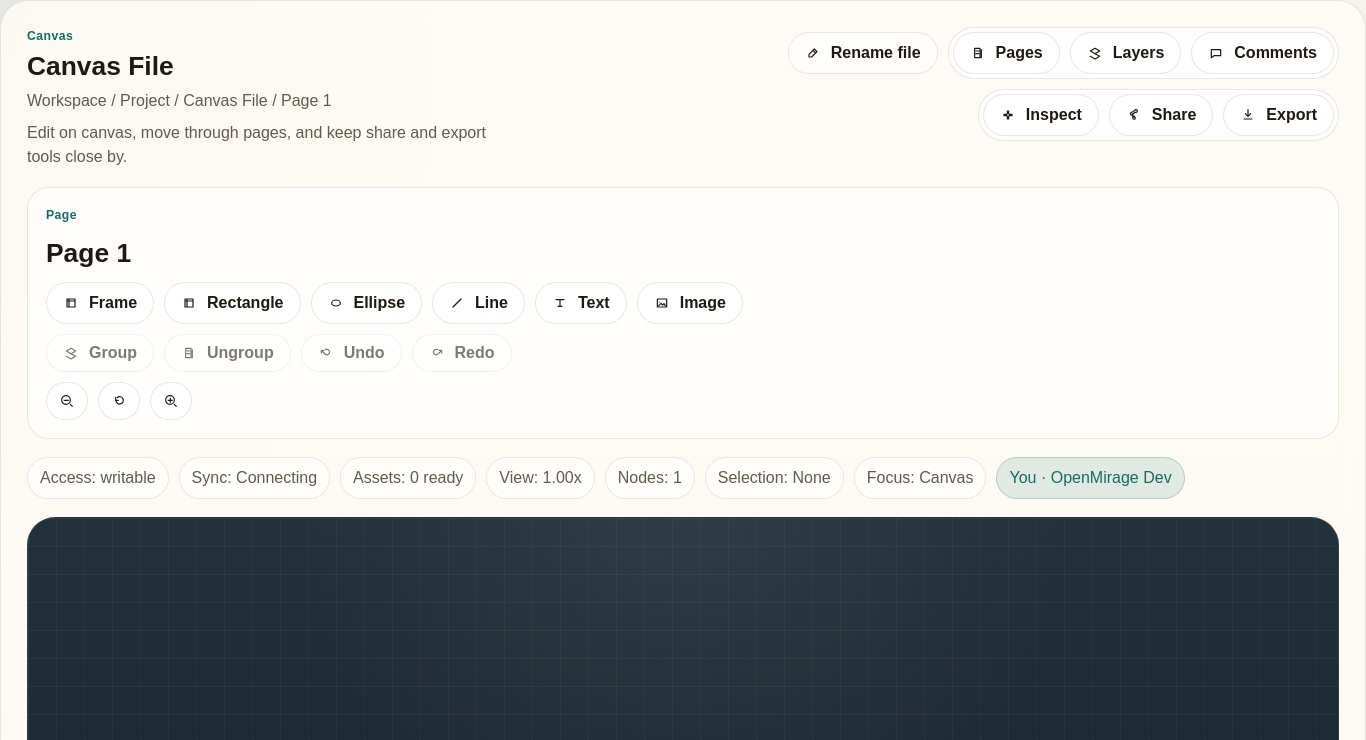
Test: PageEditorScreen shell › formats comment and share-link load errors for the UI
Click the button with test id "left-rail-toggle-comments" at (1263, 53), box x1=1191 y1=32 x2=1334 y2=74
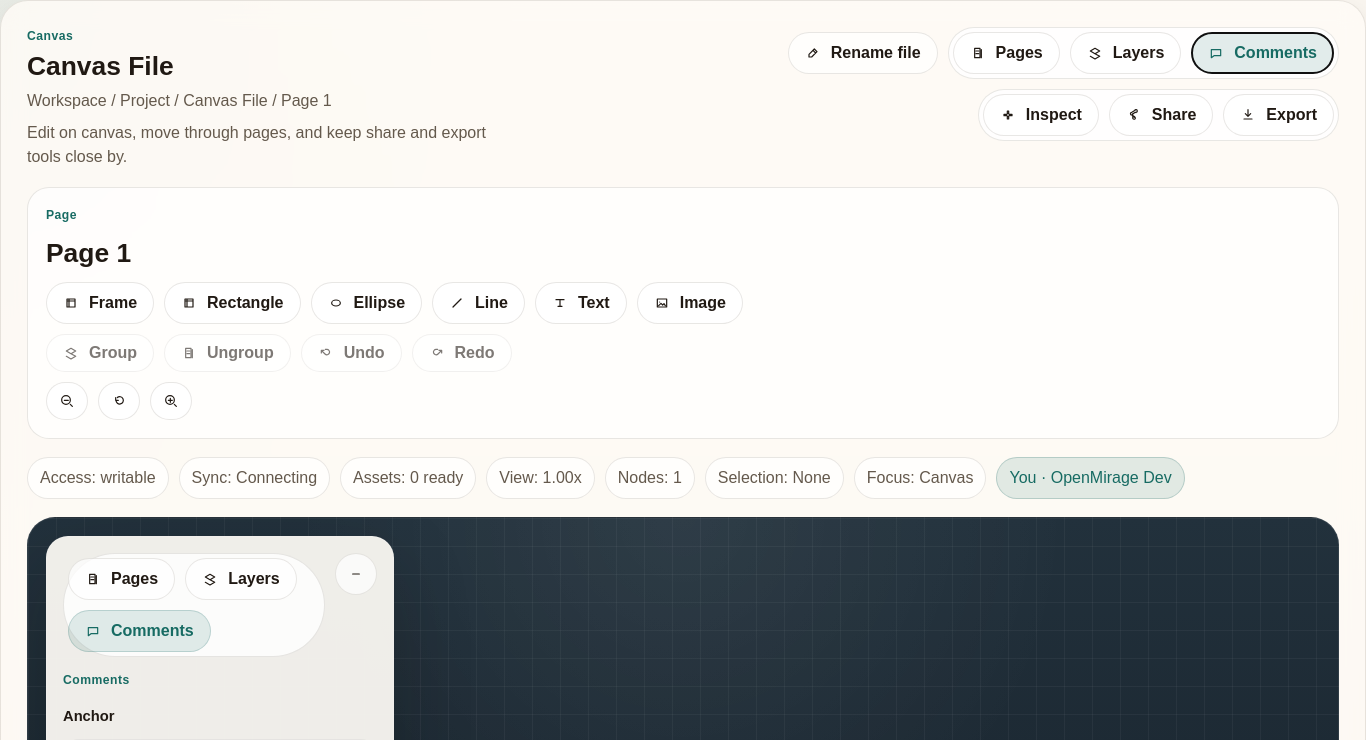
Click the button with test id "right-panel-toggle-share" at (1161, 115), box x1=1109 y1=94 x2=1213 y2=136
(page scrolled)
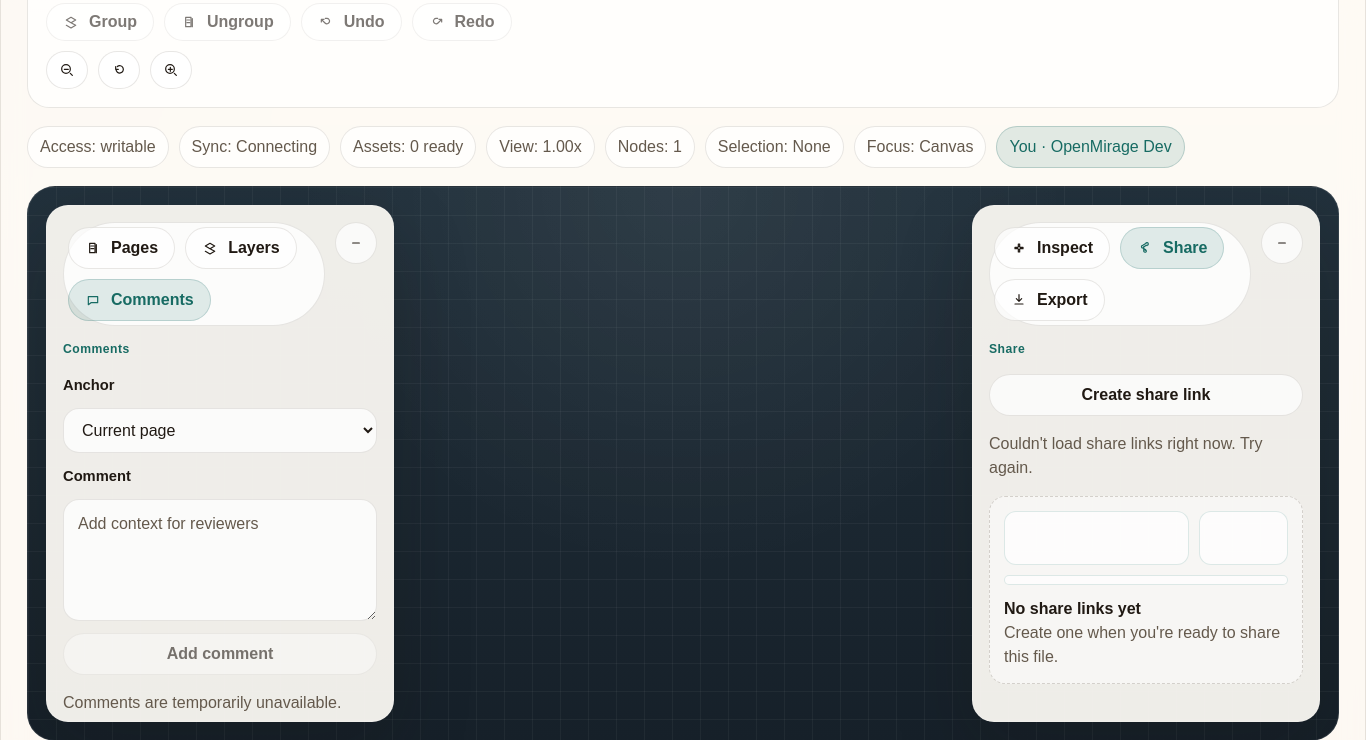
Result: the text "Couldn't load share links right now. Try again." is shown at x1=989 y1=432 x2=1303 y2=480
